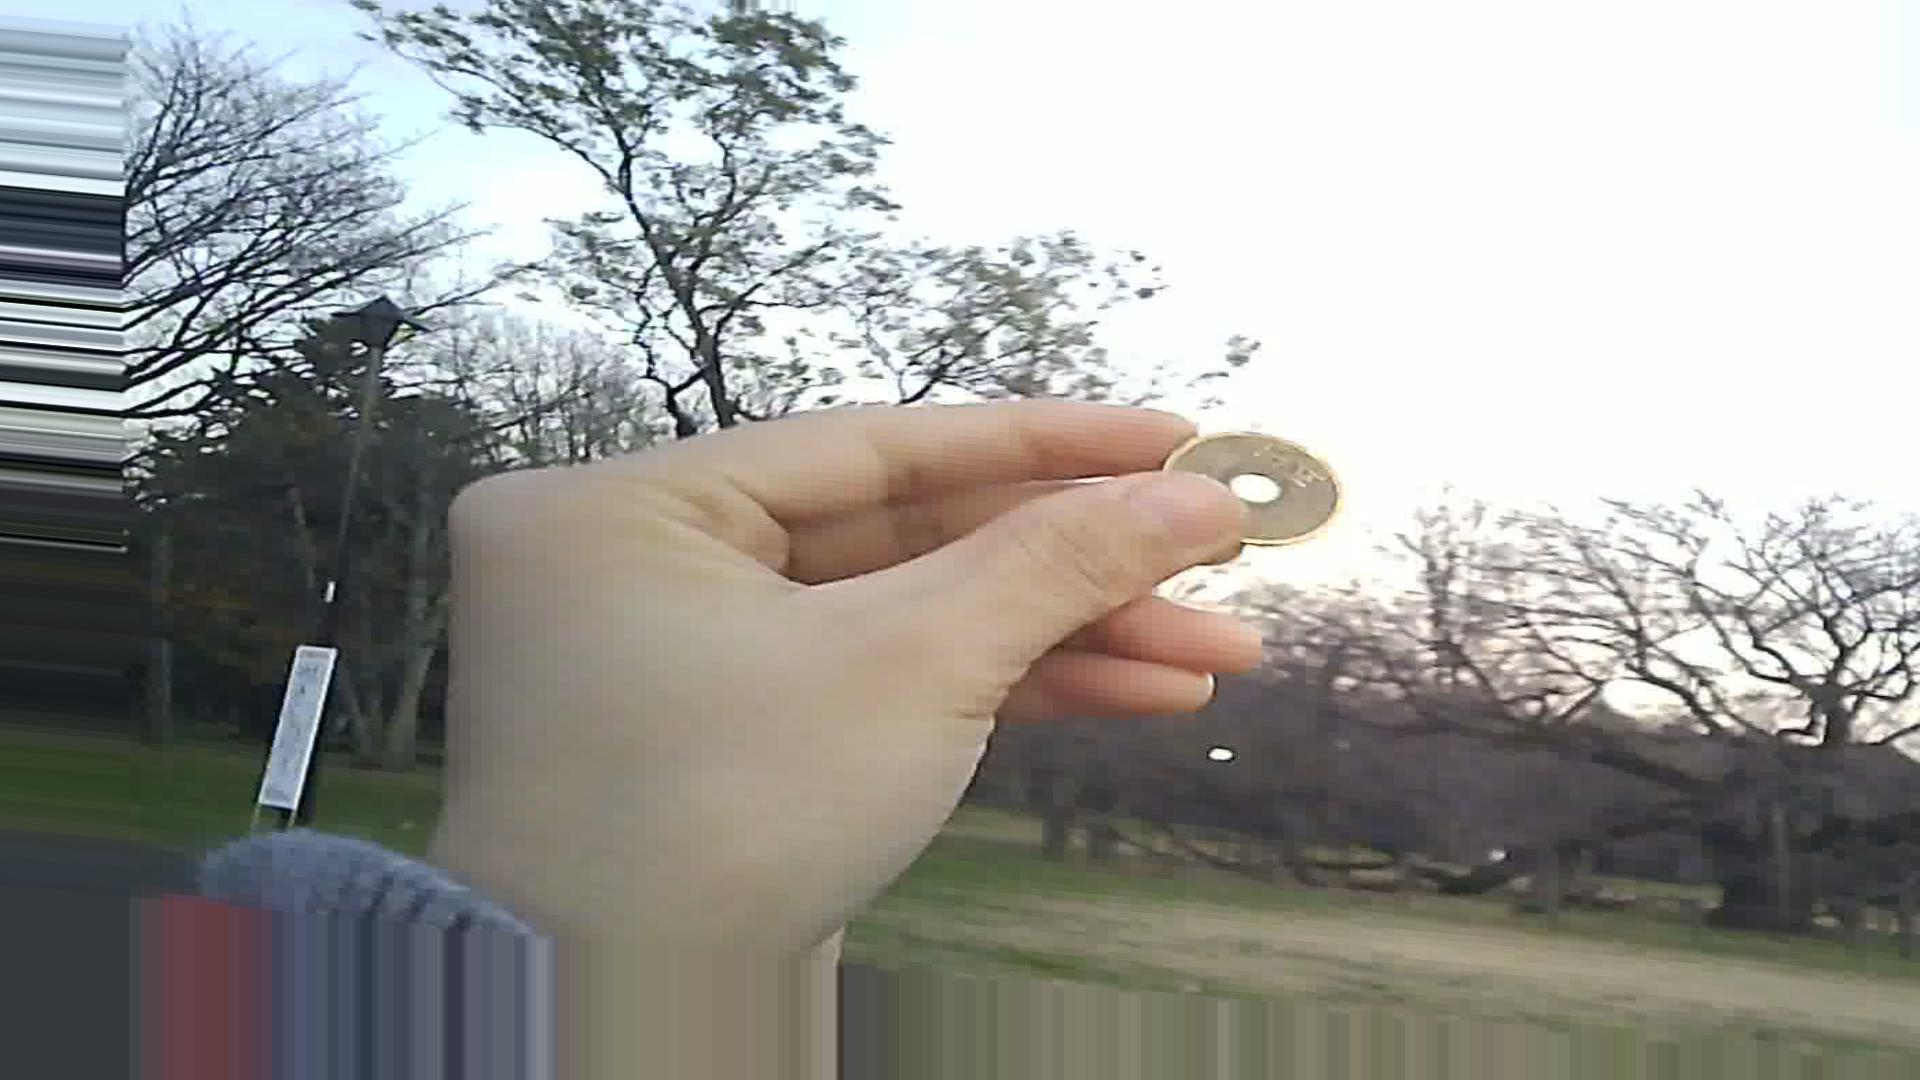5 Yen: (1160, 413, 1346, 543)
